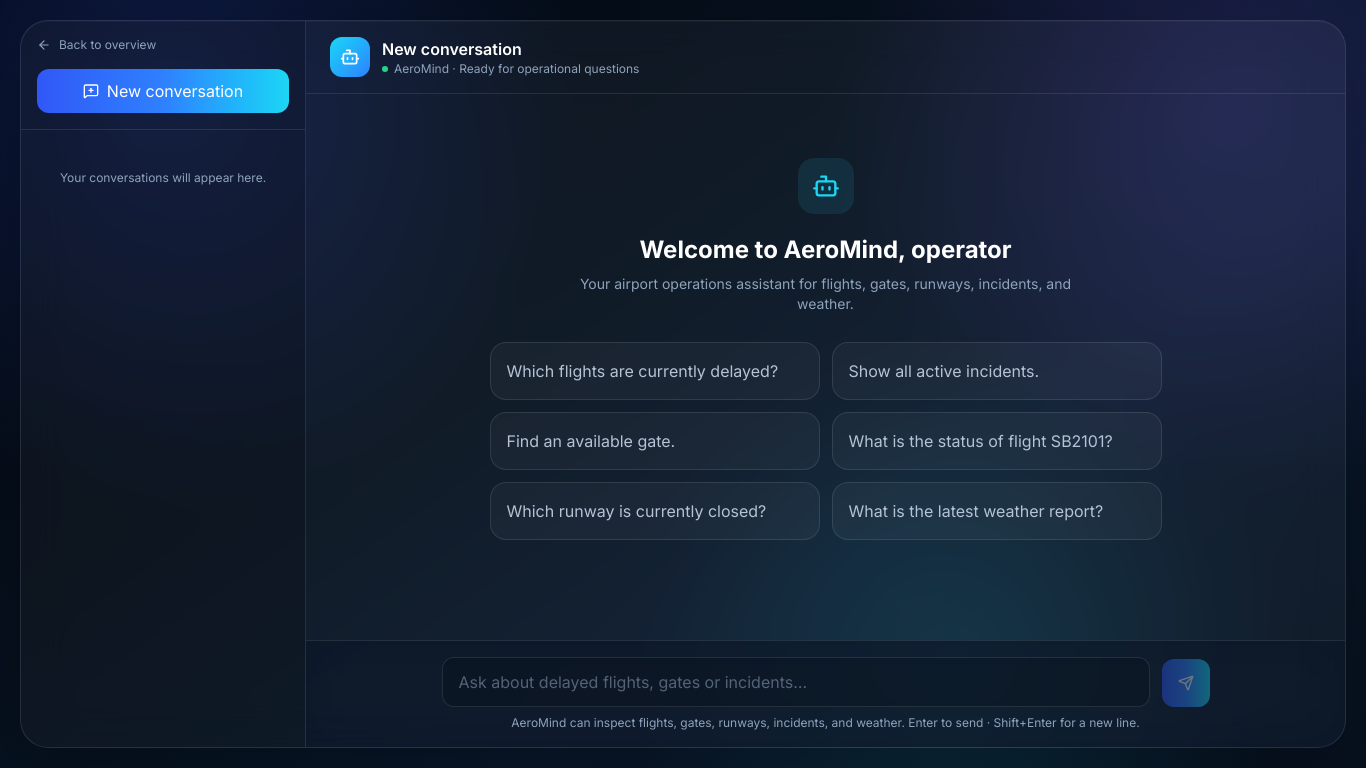
Test: ChatPage submission › disables sending and prevents duplicate requests while pending
Type "Check PW2018" into the text box with placeholder "Ask about delayed flights, gates or incidents…". click: {"x": 796, "y": 682}
box: [442,657,1150,707]
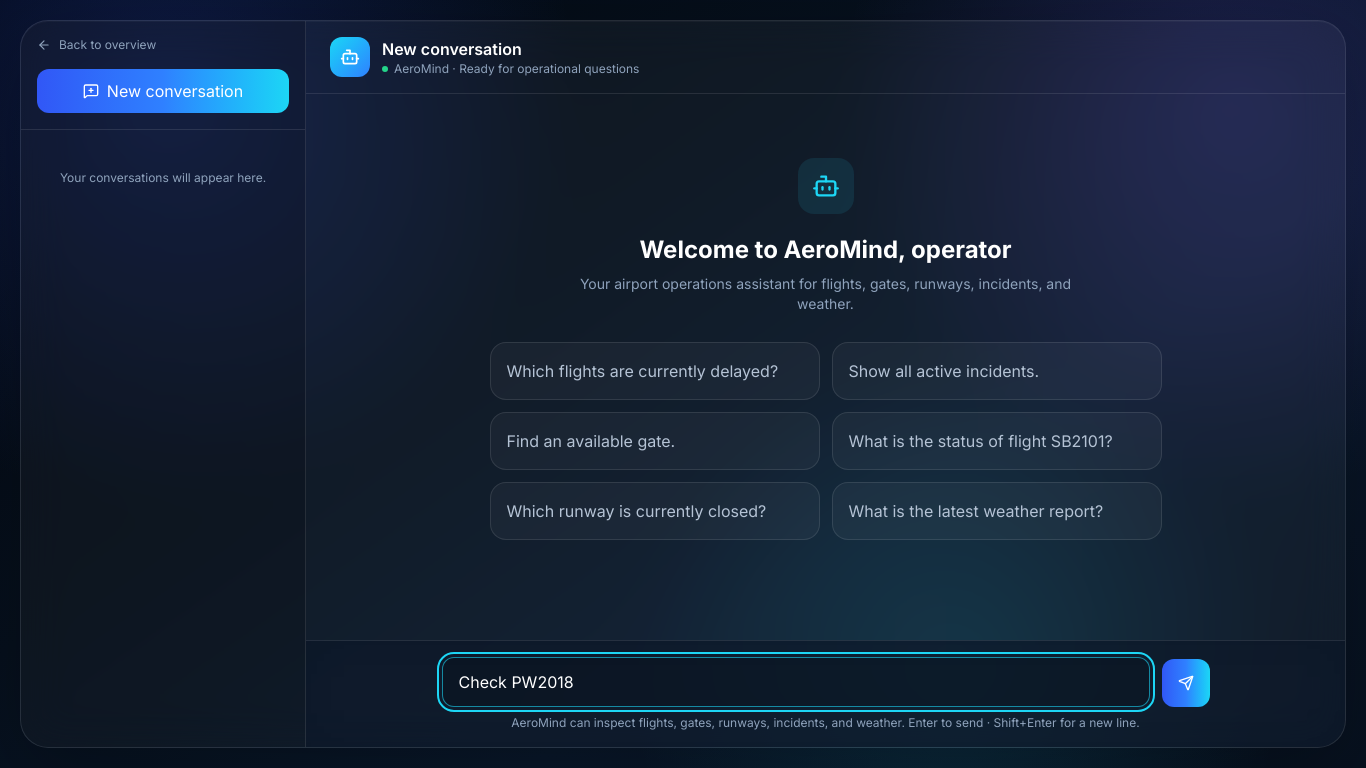
Click the button named "Send message". click: {"x": 1186, "y": 683}
box: [1162,659,1210,707]
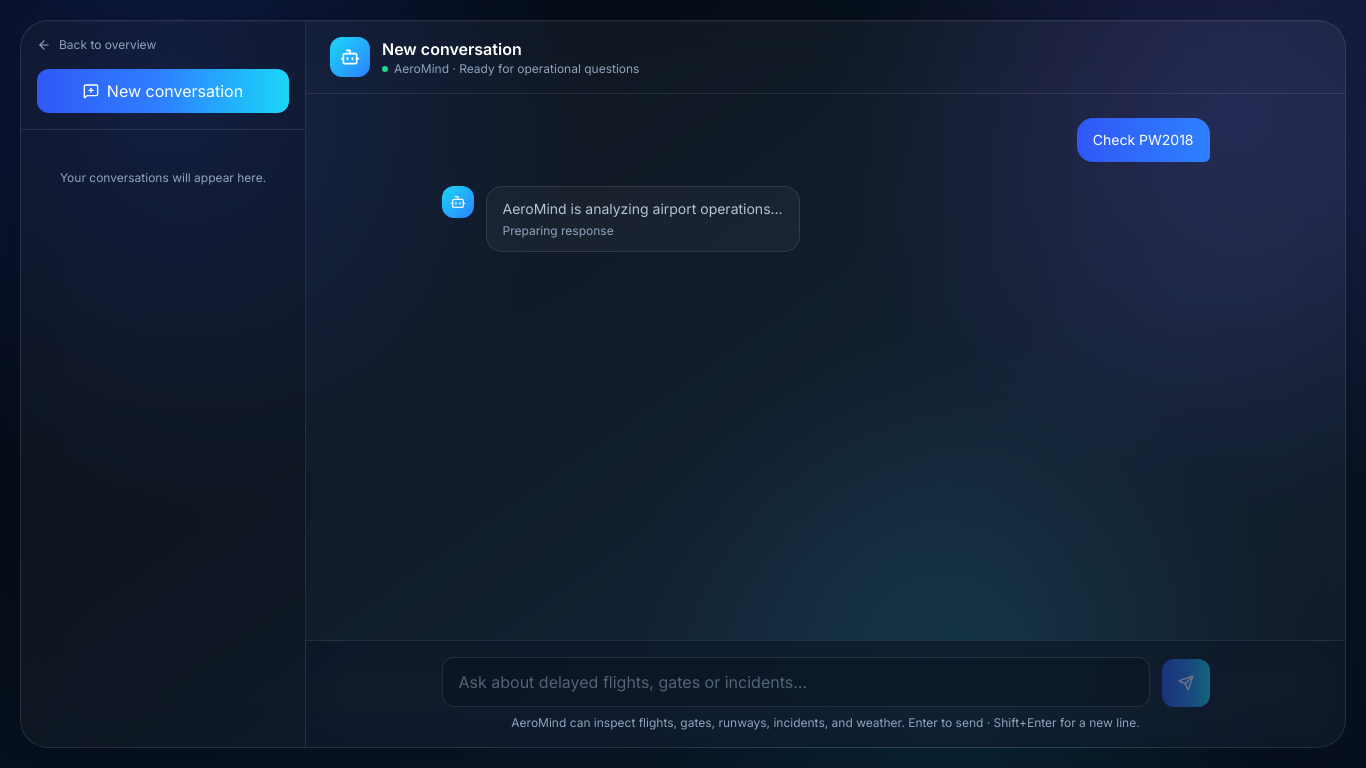
Expected: the button named "Send message" is disabled
Click the button named "Send message". click: {"x": 1186, "y": 683}
box: [1162,659,1210,707]
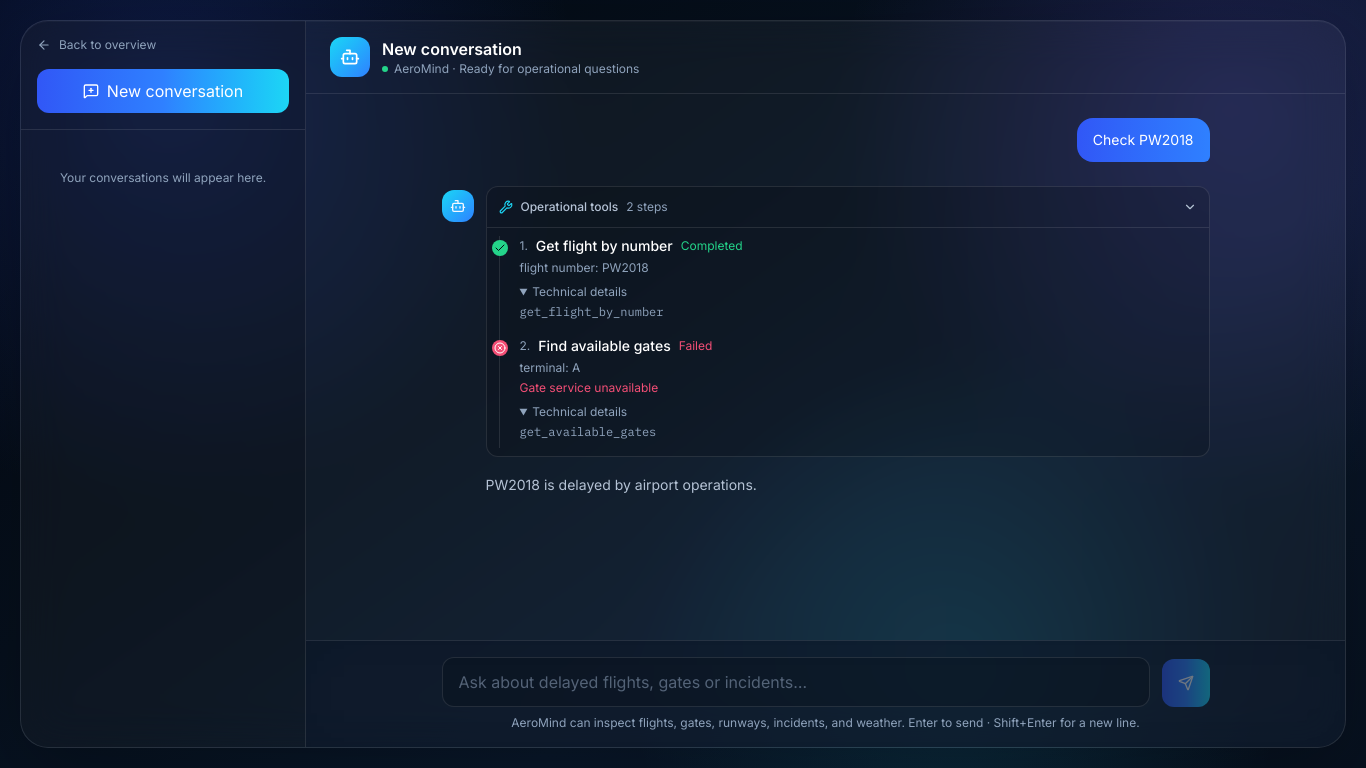
Expected: the text "PW2018 is delayed by airport operations." is shown, [486,476,757,493]
